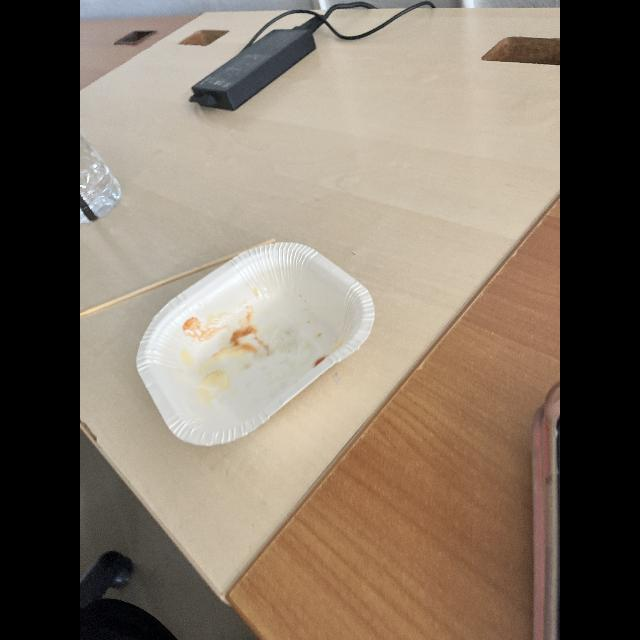cardboard_bowl: (138, 235, 380, 452)
stick: (80, 252, 238, 312)
